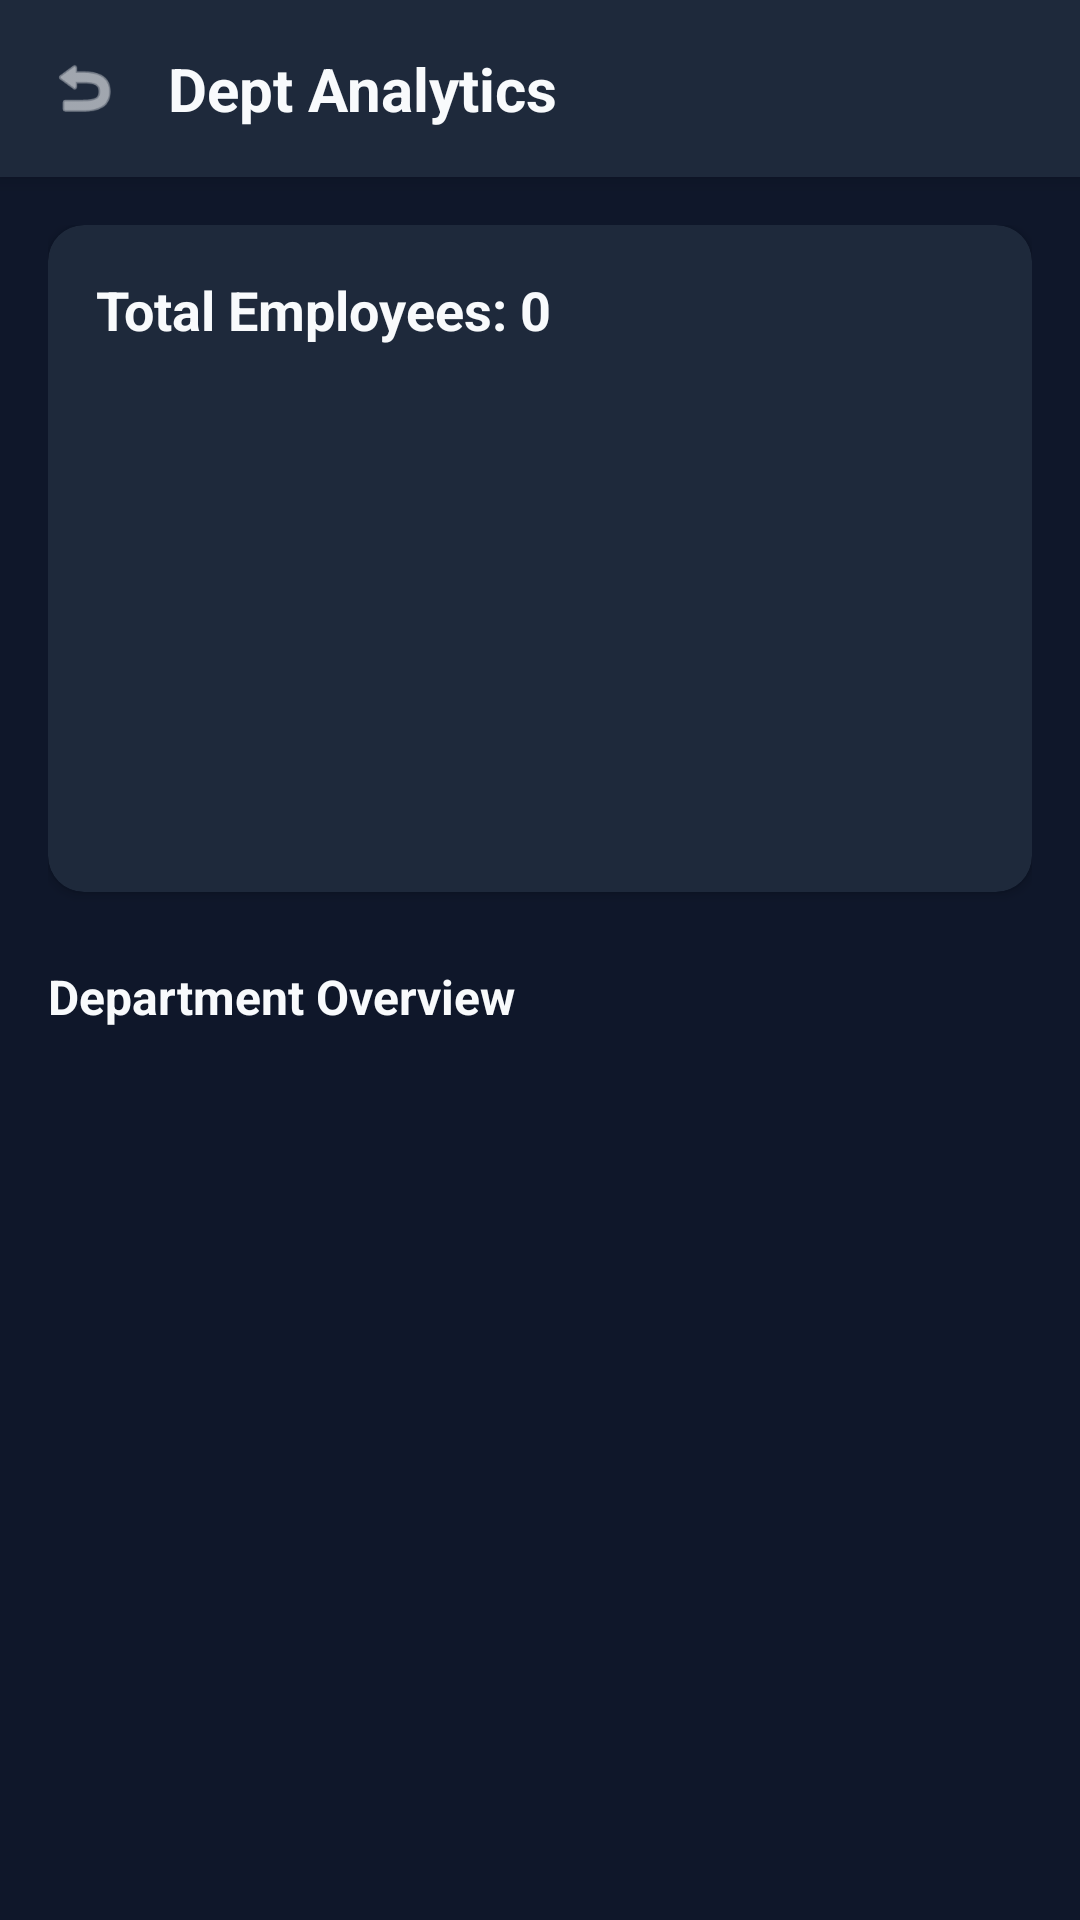

Locate icon controls on the screen. Image size 1080px x 1920px, boxes as (x1=x1, y1=y1, x2=x2, y2=y2).
revert: (x1=59, y1=65, x2=111, y2=112)
